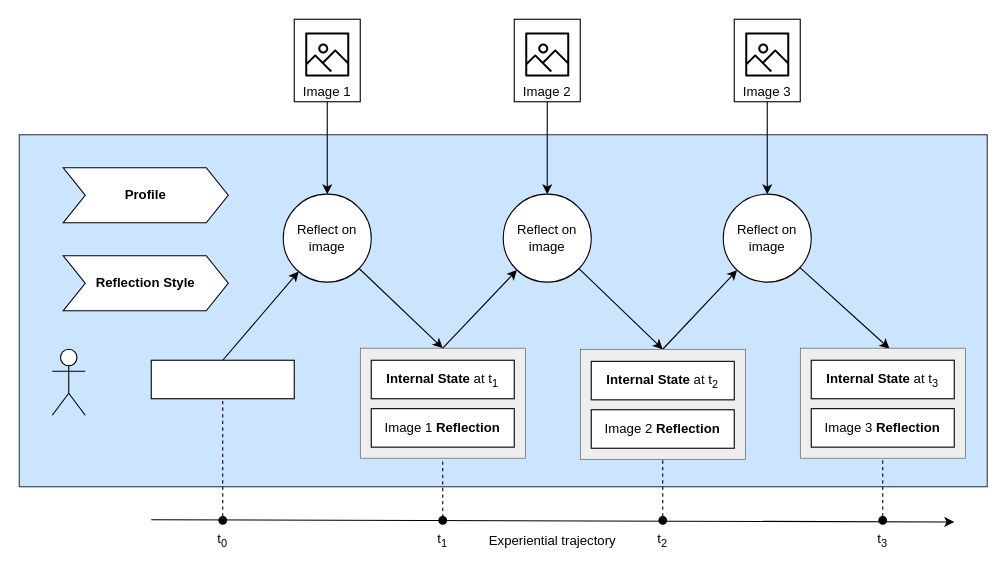
This 1007x576 diagram has some shape labels left out. Each missing label, with the centre of its shape:
Internal State at t 0: (x=222, y=379)
Simulated viewer: (x=68, y=381)
